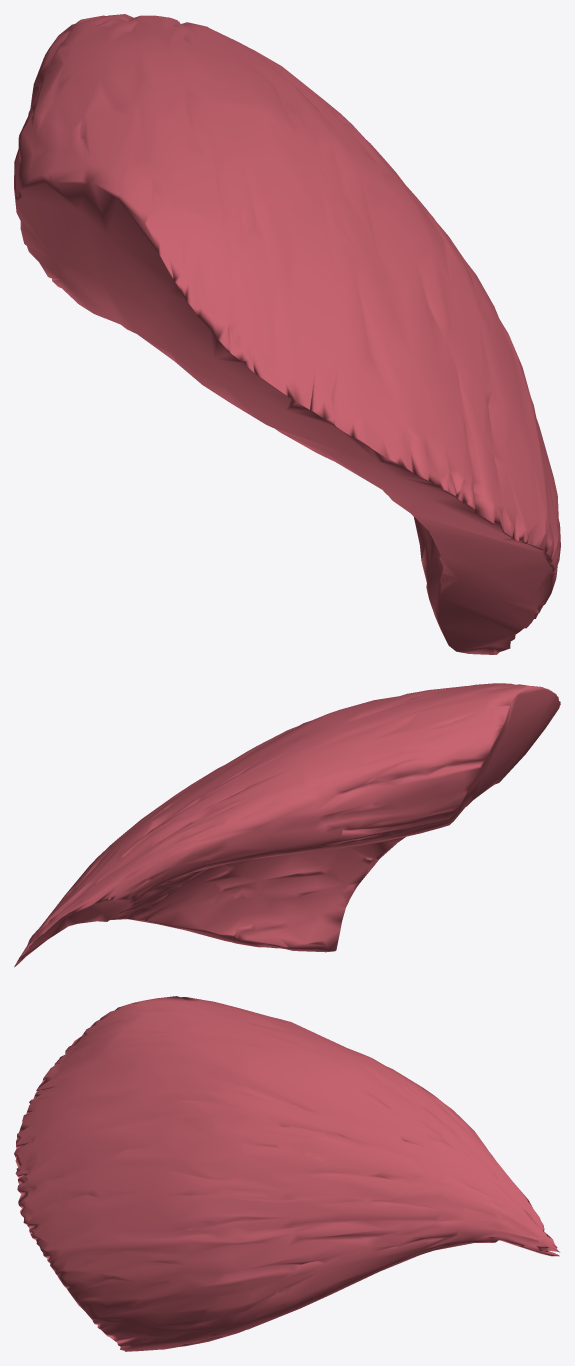
3 renders of one model, top to bottom at view 1: azimuth 30°, elevation 25°; view 2: azimuth 150°, elevation 25°; view 3: azimuth 270°, elevation 25°, orthographic. The views are drawn at different scales.
Visible parts, largest first — view 1: 左侧臀中肌; view 2: 左侧臀中肌; view 3: 左侧臀中肌.
Part boxes in pixels (x1,y1,x2,y2): 左侧臀中肌: (14,14,560,654); 左侧臀中肌: (14,683,560,967); 左侧臀中肌: (14,996,560,1351).
Bounding box in the file's own units: 0.1313 × 0.135 × 0.2476.
